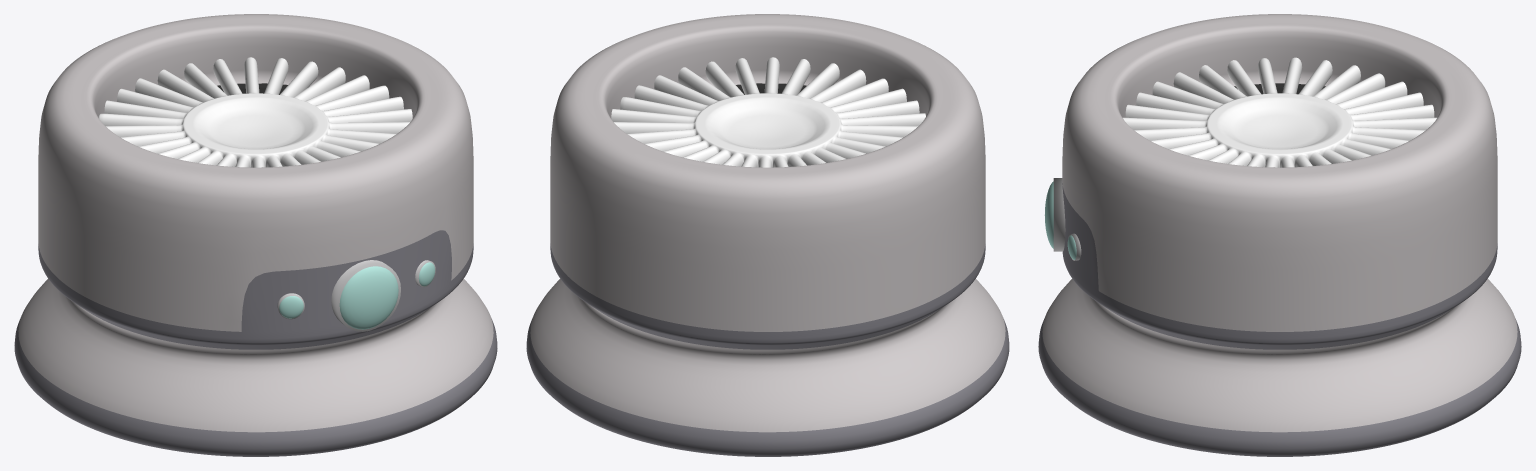
The model's file is 장애물.fbx.
The picture shows the model from 3 angles, left to right: view 1: azimuth 30°, elevation 25°; view 2: azimuth 150°, elevation 25°; view 3: azimuth 270°, elevation 25°; orthographic projection.
Visible parts, largest first — view 1: Point2, Lens, Lens.002; view 2: Point2; view 3: Point2, Lens.
Part boxes in pixels (x1,y1,x2,y2): Point2: (14, 14, 497, 456); Lens: (331, 260, 400, 331); Lens.002: (277, 293, 304, 319); Point2: (526, 14, 1009, 456); Point2: (1038, 14, 1521, 456); Lens: (1044, 178, 1065, 251).
Size of the model in its own units: 2.06 by 1.26 by 2.06.
